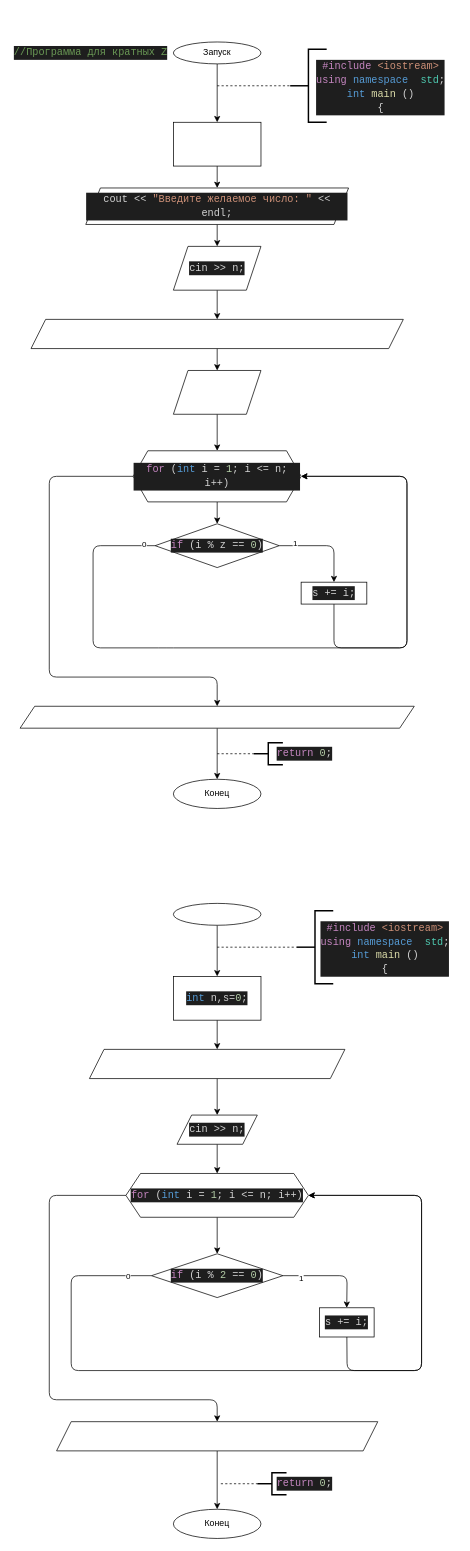
The diagram is 470 pixels wide and 1551 high, and some of its shapes have lost their labels. Here are the shapes that lost their labels. From the top down, the box of each, then its label:
(173, 122, 261, 166): int n,z,s= 0 ;
(30, 319, 403, 349): cout << "Введите число, которому будет кратны цифры" << endl;
(173, 370, 261, 414): cin >> z;
(19, 706, 414, 728): cout << "Сумма цифр, кратных числу " << z << ": " << s << endl;
(89, 1049, 345, 1079): cout << "Введите желаемое число" << endl;
(56, 1421, 378, 1451): cout << "Сумма, соблюдающая условие: " << s << endl;
